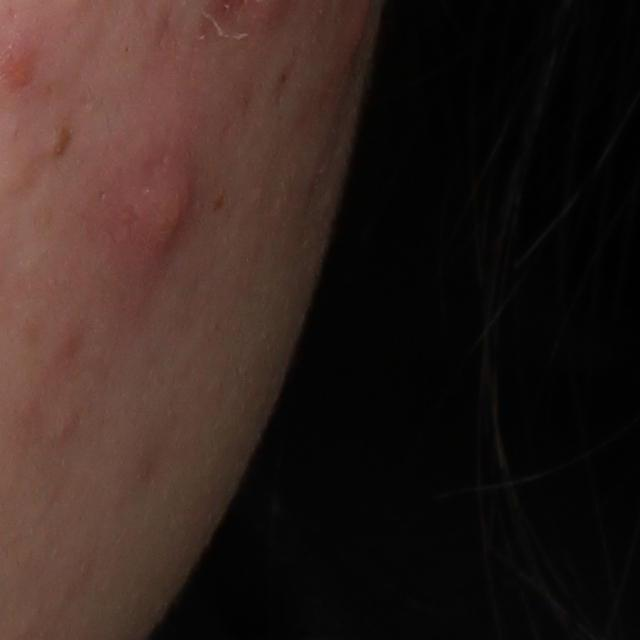nodule: (118, 145, 220, 290)
